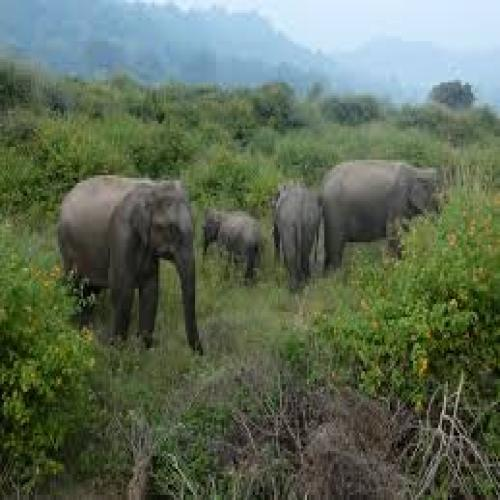asian_elephant-endangered: (59, 168, 207, 356), (321, 163, 443, 270), (273, 181, 324, 293), (201, 207, 262, 277)
